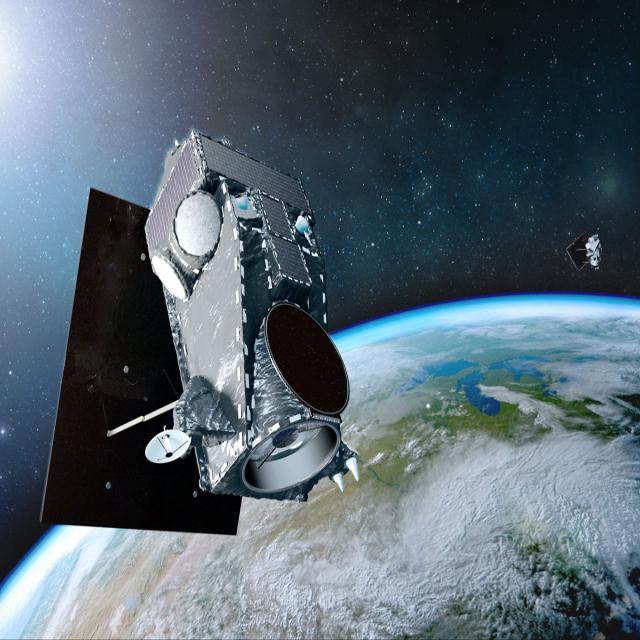medium_debris: (35, 113, 368, 548), (560, 215, 609, 285)
